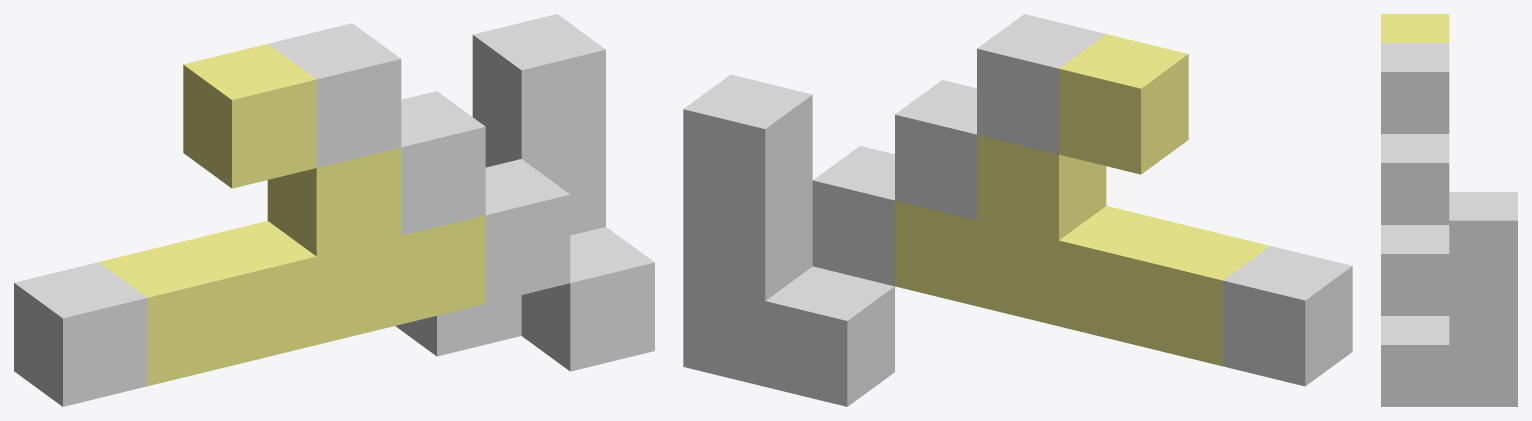
Rendered from YellowHouseParts-83.obj.
3 renders of one model, left to right at view 1: azimuth 30°, elevation 25°; view 2: azimuth 150°, elevation 25°; view 3: azimuth 270°, elevation 25°, orthographic. The views are drawn at different scales.
Size of the model in its own units: 0.7 by 0.4 by 0.2.
1 material, 1 textured.
